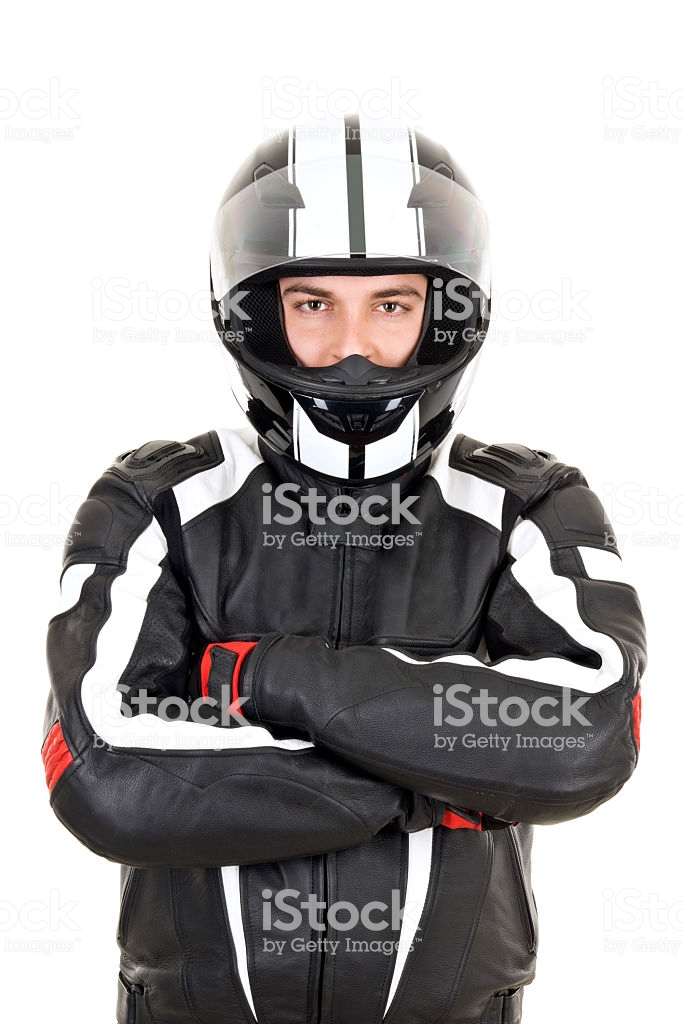helmet: (191, 106, 491, 478)
